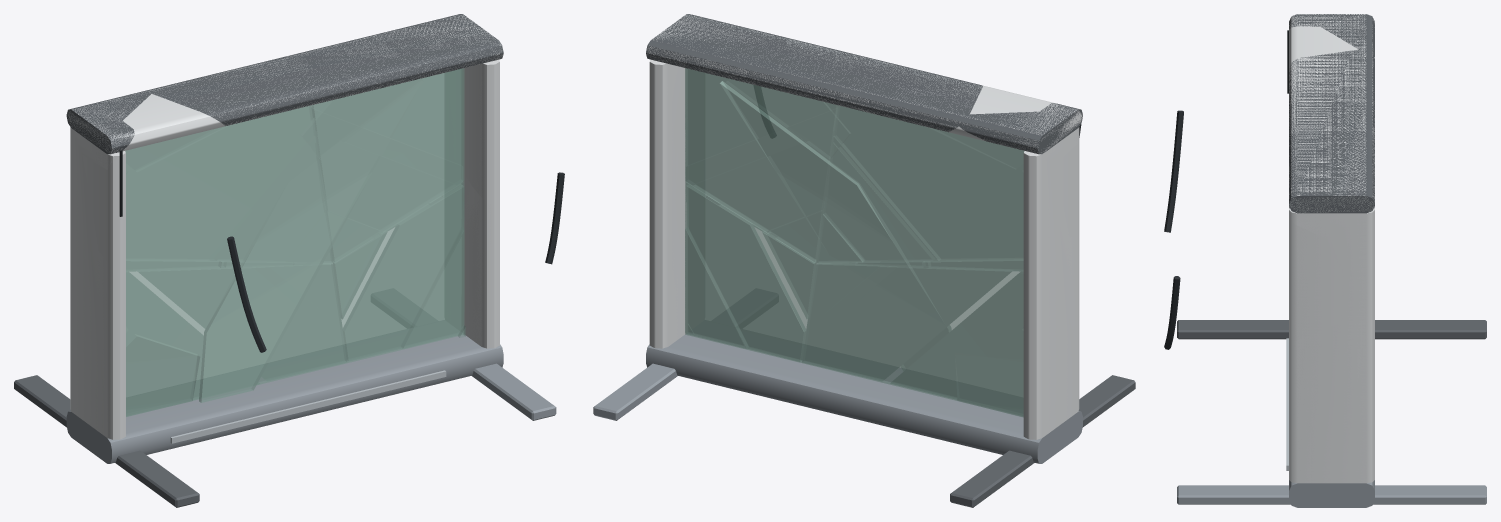
The model's file is vta_cmp_cleanroom_panel_c.glb.
The picture shows the model from 3 angles, left to right: view 1: azimuth 30°, elevation 25°; view 2: azimuth 150°, elevation 25°; view 3: azimuth 270°, elevation 25°; orthographic projection. The views are drawn at different scales.
Visible parts, largest first — view 1: mesh_intact, mesh_heavy, mesh_light; view 2: mesh_intact, mesh_light, mesh_heavy; view 3: mesh_heavy, mesh_intact, mesh_light.
Part boxes in pixels (<box>): mesh_intact: <box>67,14,502,443</box>; mesh_heavy: <box>14,14,564,507</box>; mesh_light: <box>126,60,499,415</box>; mesh_intact: <box>646,14,1082,437</box>; mesh_light: <box>649,60,1023,415</box>; mesh_heavy: <box>593,14,1135,507</box>; mesh_heavy: <box>1164,14,1486,507</box>; mesh_intact: <box>1286,14,1374,483</box>; mesh_light: <box>1289,209,1374,483</box>.
Size of the model in its own units: 1 by 0.8 by 0.7501.
